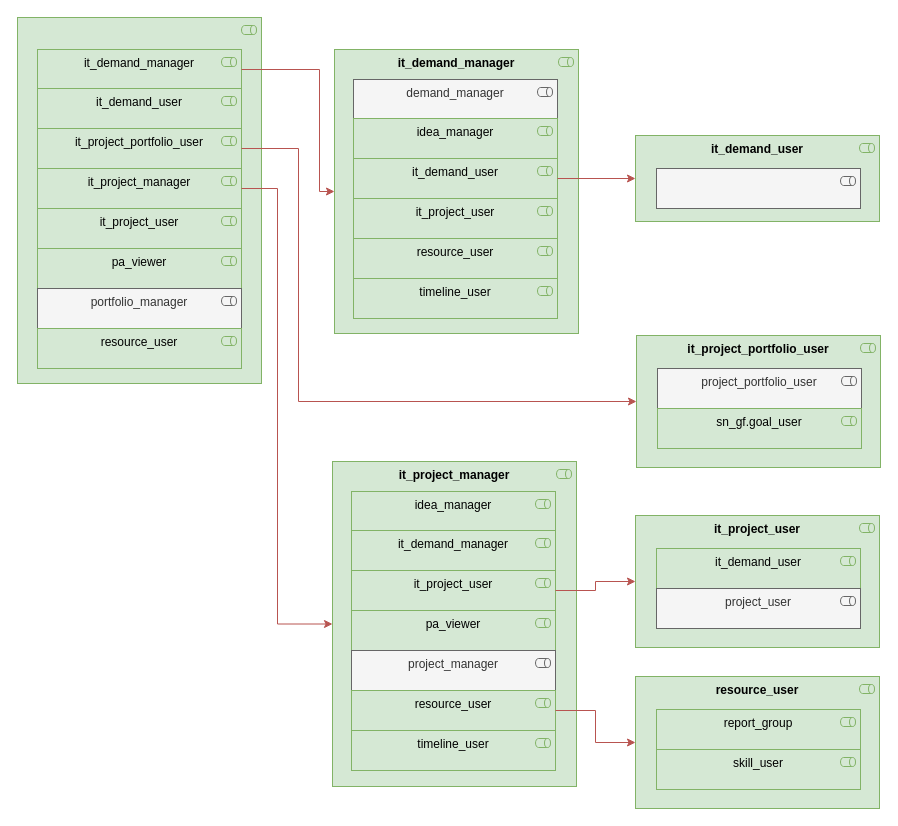
Image size: 898x826. Some labels were removed from this diagram. Here are the shapes that lost their labels. From the top down, the box of each, then its label:
(16, 16, 262, 384): it_portfolio_manager
(656, 168, 860, 208): demand_user
